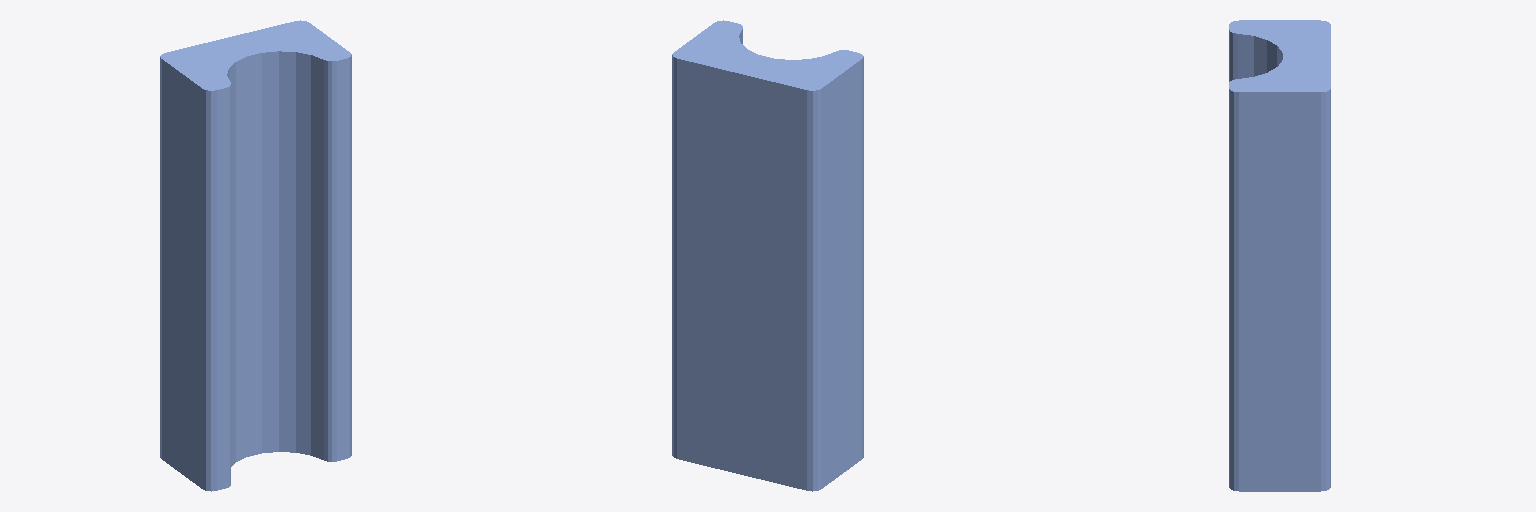
URDF robot description (Small_Short_Arch_JeansBlue):
<?xml version="1.0"?>
<robot name="Small_Short_Arch_JeansBlue">
    <link name="Small_Short_Arch_JeansBlue">
        <visual>
            <geometry>
                <mesh filename="../mesh/factory_insertion/Small_Short_Arch_JeansBlue.obj" scale="0.001 0.001 0.001"/>
            </geometry>
            <material name="JeansBlue">
              <color rgba="0.65 0.75 0.95 0"/>
            </material>
        </visual>
        <collision>
            <geometry>
                <mesh filename="../mesh/factory_insertion/Small_Short_Arch_JeansBlue.obj" scale="0.001 0.001 0.001"/>
            </geometry>
            <sdf resolution="512"/>
        </collision>
    </link>
</robot>

--- Facts derived from the render (not from the file) ---
3 views of the same robot in one strip: view 1: azimuth 30°, elevation 25°; view 2: azimuth 150°, elevation 25°; view 3: azimuth 270°, elevation 25° (orthographic).
Robot: Small_Short_Arch_JeansBlue — 1 links, 0 joints (none); root link Small_Short_Arch_JeansBlue; default pose: all joints at 0.
Visible links, largest first — view 1: Small_Short_Arch_JeansBlue; view 2: Small_Short_Arch_JeansBlue; view 3: Small_Short_Arch_JeansBlue.
Link boxes in pixels (box(x1,y1,x2,y2)): Small_Short_Arch_JeansBlue: box(160, 20, 351, 491); Small_Short_Arch_JeansBlue: box(672, 20, 863, 491); Small_Short_Arch_JeansBlue: box(1229, 20, 1330, 491).
Size in the robot's own frame: 0.0386 by 0.0232 by 0.1 metres.
1 mesh visuals loaded from 1 distinct referenced files (1 OBJ).
